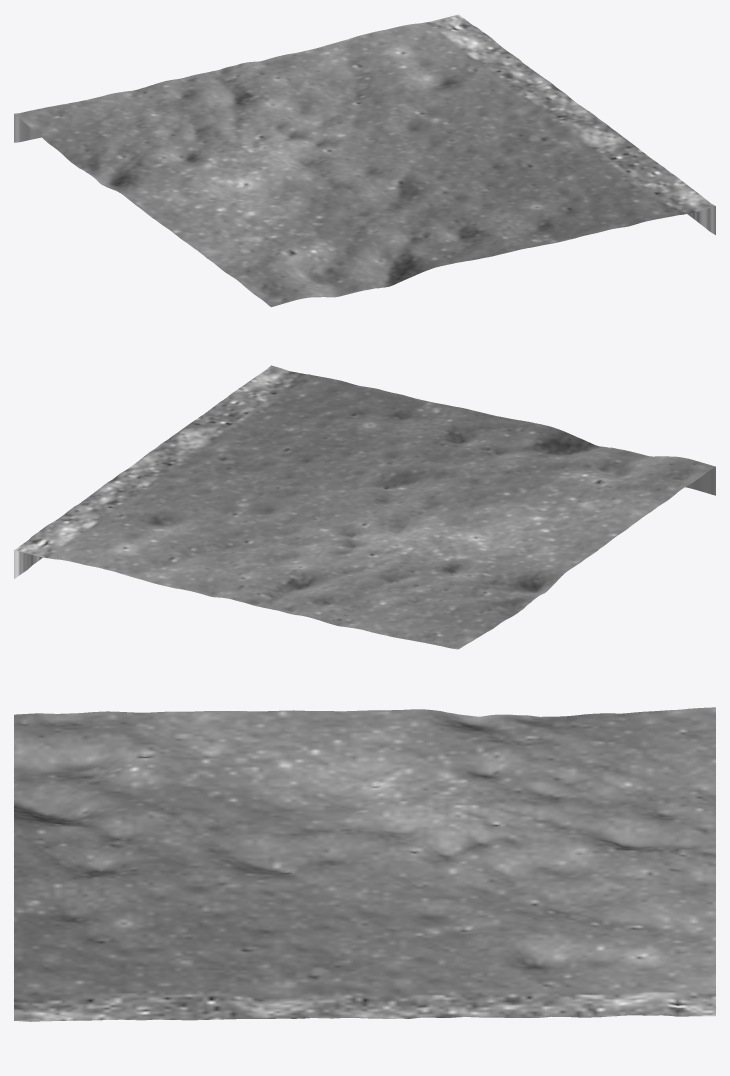
The picture shows the model from 3 angles, top to bottom: view 1: azimuth 30°, elevation 25°; view 2: azimuth 150°, elevation 25°; view 3: azimuth 270°, elevation 25°; orthographic projection. The views are drawn at different scales.
Bounding box in the file's own units: 1276 × 118 × 1278.
1 material, 1 textured.
